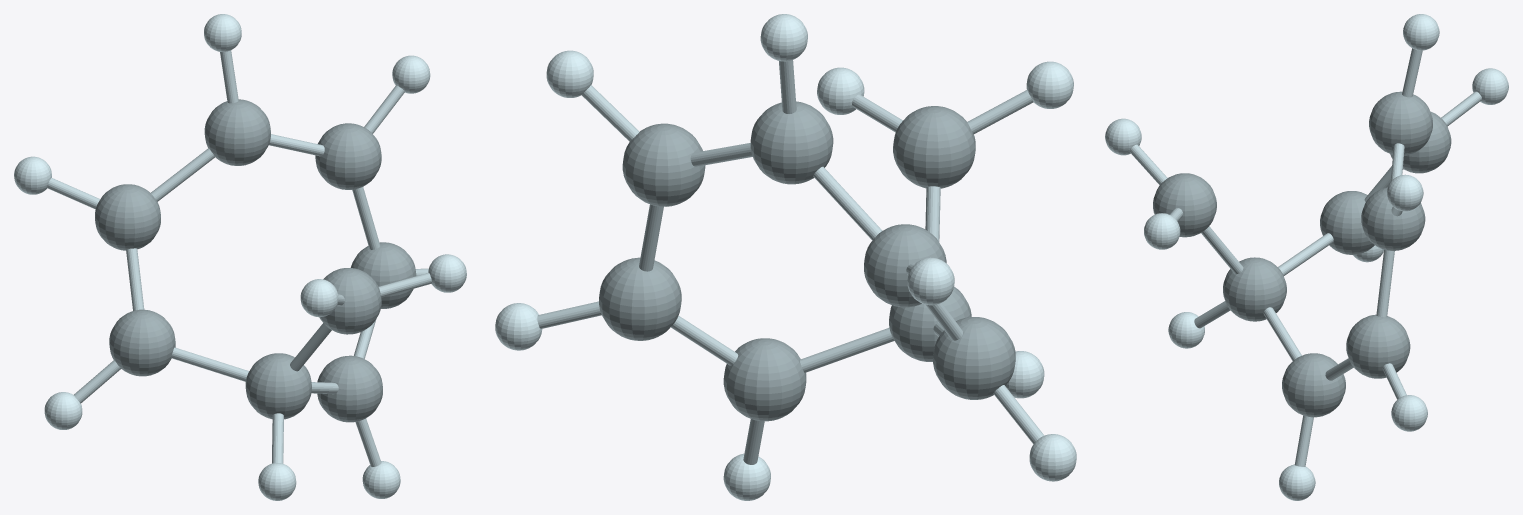
The model's file is irc_step_098.glb.
The picture shows the model from 3 angles, left to right: view 1: azimuth 30°, elevation 25°; view 2: azimuth 150°, elevation 25°; view 3: azimuth 270°, elevation 25°; orthographic projection. The views are drawn at different scales.
Visible parts, largest first — view 1: Renderer Node; view 2: Renderer Node; view 3: Renderer Node.
Part boxes in pixels (x1,y1,x2,y2): Renderer Node: (14, 14, 466, 500); Renderer Node: (495, 14, 1076, 500); Renderer Node: (1105, 14, 1508, 500).
Size of the model in its own units: 5.31 by 5.28 by 4.4.
